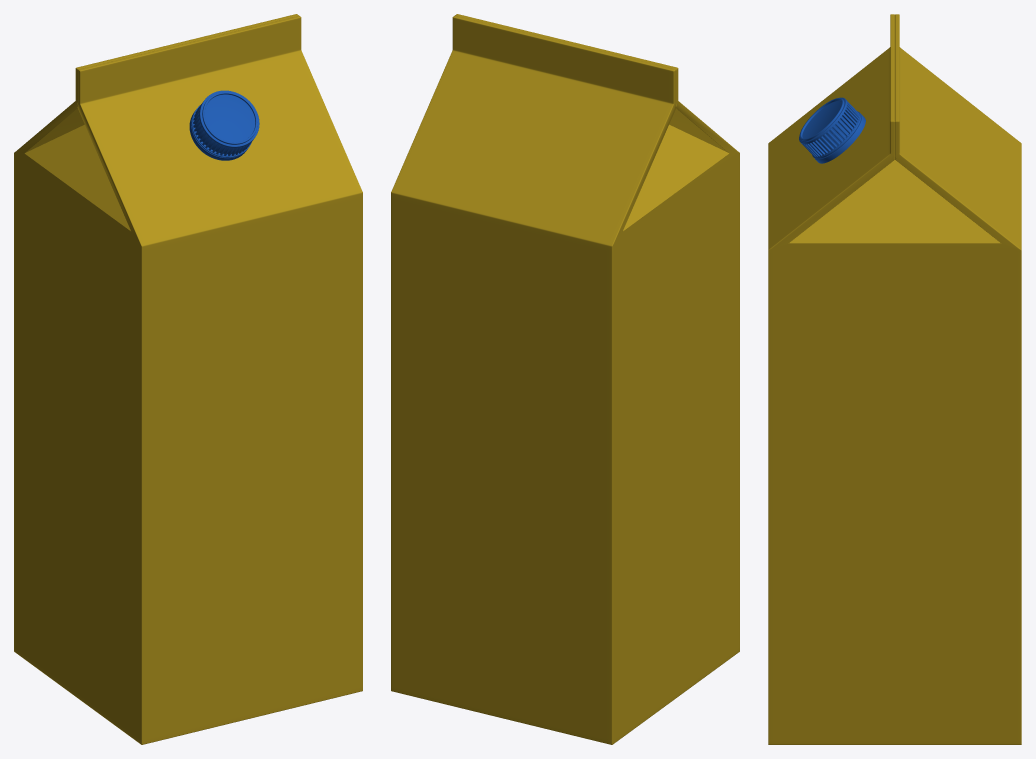
The model's file is carton.obj.
3 renders of one model, left to right at view 1: azimuth 30°, elevation 25°; view 2: azimuth 150°, elevation 25°; view 3: azimuth 270°, elevation 25°, orthographic.
Parts seen in each view (by area): view 1: Box287, Cylinder004; view 2: Box287; view 3: Box287, Cylinder004.
Part boxes in pixels (bbox=[...]): Box287: bbox=[14, 14, 362, 744]; Cylinder004: bbox=[189, 90, 259, 160]; Box287: bbox=[391, 14, 739, 744]; Box287: bbox=[768, 14, 1021, 744]; Cylinder004: bbox=[799, 97, 865, 163].
Size of the model in its own units: 7 by 19 by 7.
